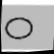no answer: (3, 13, 36, 45)
